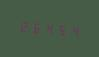five: (54, 20, 65, 38)
four: (42, 19, 53, 37), (66, 21, 77, 39)
six: (30, 18, 41, 36)
two: (18, 17, 29, 35)
